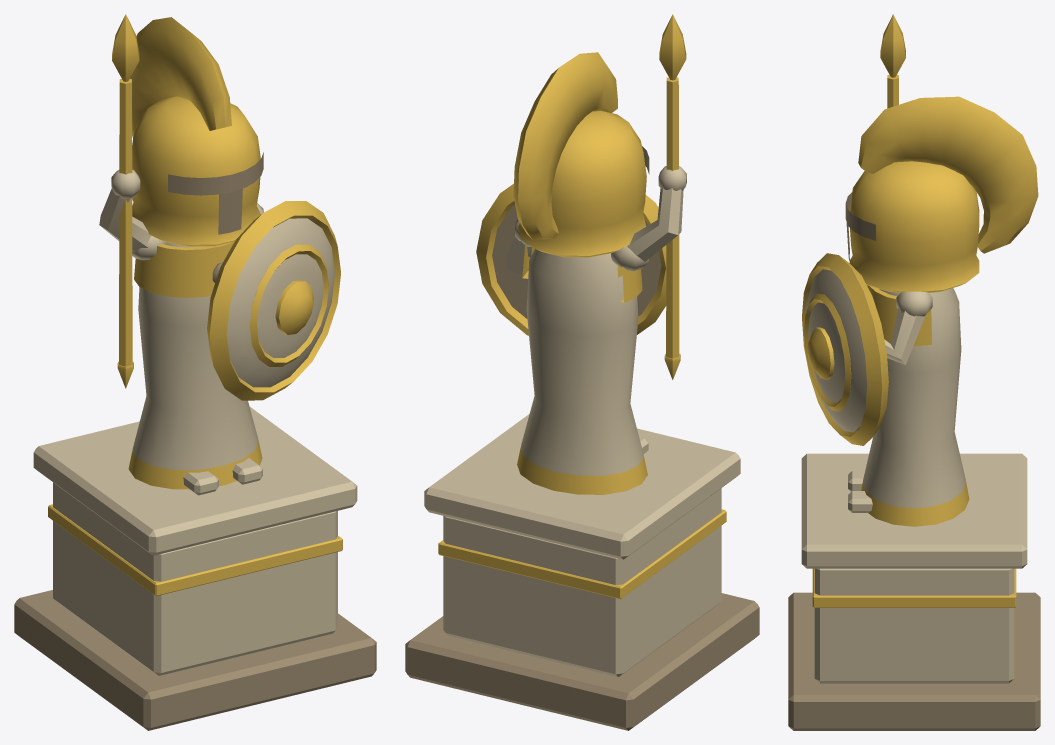
File: statue.glb
3 views of the same model, side by side, from view 1: azimuth 30°, elevation 25°; view 2: azimuth 150°, elevation 25°; view 3: azimuth 270°, elevation 25° (orthographic). The views are drawn at different scales.
Visible parts, largest first — view 1: statue; view 2: statue; view 3: statue.
Boxes of the visible parts, x1,y1,x2,y2 form: statue: [14, 14, 376, 730]; statue: [405, 14, 759, 730]; statue: [788, 14, 1040, 730].
Bounding box in the file's own units: 0.3952 × 1.04 × 0.38.
